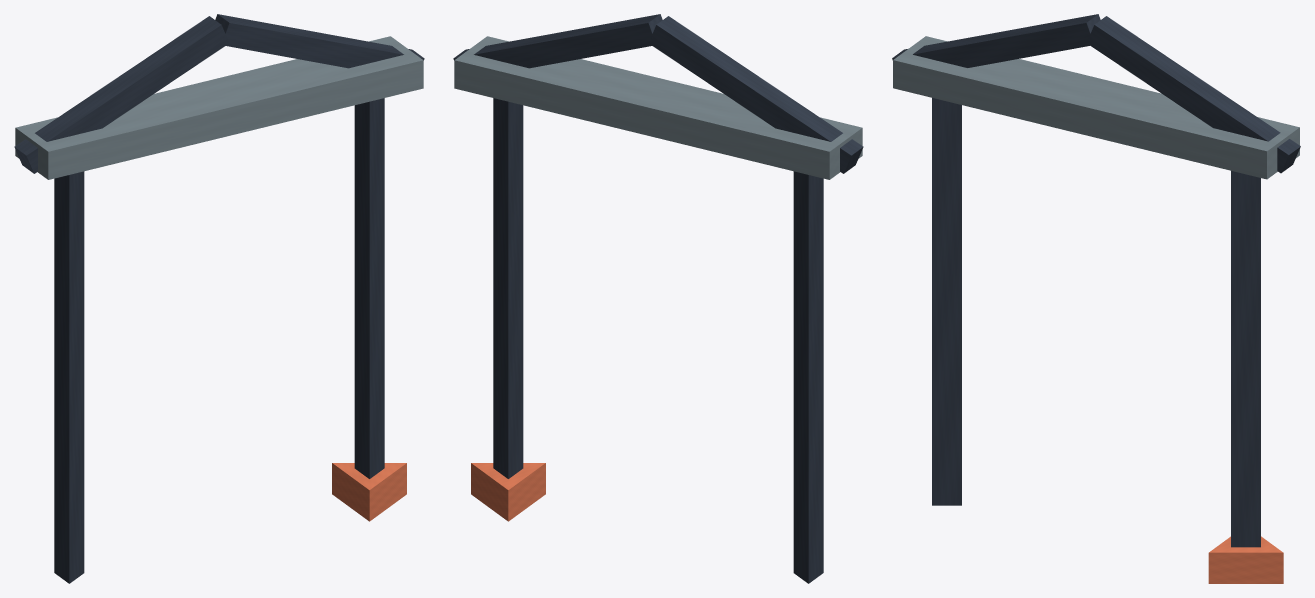
Rendered from atlas100-s021-a09.lod2.glb.
The picture shows the model from 3 angles, left to right: view 1: azimuth 30°, elevation 25°; view 2: azimuth 150°, elevation 25°; view 3: azimuth 330°, elevation 25°; orthographic projection.
Visible parts, largest first — view 1: atlas100-s021-a09:part-004, atlas100-s021-a09:part-000, atlas100-s021-a09:part-002, atlas100-s021-a09:part-005, atlas100-s021-a09:part-006, atlas100-s021-a09:part-003; view 2: atlas100-s021-a09:part-004, atlas100-s021-a09:part-000, atlas100-s021-a09:part-002, atlas100-s021-a09:part-005, atlas100-s021-a09:part-006, atlas100-s021-a09:part-003; view 3: atlas100-s021-a09:part-004, atlas100-s021-a09:part-000, atlas100-s021-a09:part-002, atlas100-s021-a09:part-006, atlas100-s021-a09:part-005, atlas100-s021-a09:part-003.
Part boxes in pixels (<box>): atlas100-s021-a09:part-004: <box>15,36,423,179</box>; atlas100-s021-a09:part-000: <box>54,171,84,583</box>; atlas100-s021-a09:part-002: <box>354,98,384,478</box>; atlas100-s021-a09:part-005: <box>14,16,228,173</box>; atlas100-s021-a09:part-006: <box>215,14,424,68</box>; atlas100-s021-a09:part-003: <box>332,463,406,521</box>; atlas100-s021-a09:part-004: <box>454,36,862,179</box>; atlas100-s021-a09:part-000: <box>793,171,823,583</box>; atlas100-s021-a09:part-002: <box>493,98,523,478</box>; atlas100-s021-a09:part-005: <box>649,16,863,173</box>; atlas100-s021-a09:part-006: <box>453,14,662,68</box>; atlas100-s021-a09:part-003: <box>471,463,545,521</box>; atlas100-s021-a09:part-004: <box>893,36,1299,179</box>; atlas100-s021-a09:part-000: <box>932,98,961,505</box>; atlas100-s021-a09:part-002: <box>1231,171,1260,547</box>; atlas100-s021-a09:part-006: <box>1087,16,1300,173</box>; atlas100-s021-a09:part-005: <box>892,14,1100,67</box>; atlas100-s021-a09:part-003: <box>1208,536,1283,583</box>.
Size of the model in its own units: 2.65 by 3.31 by 0.433.
Materials: 3 (3 with a texture image).
